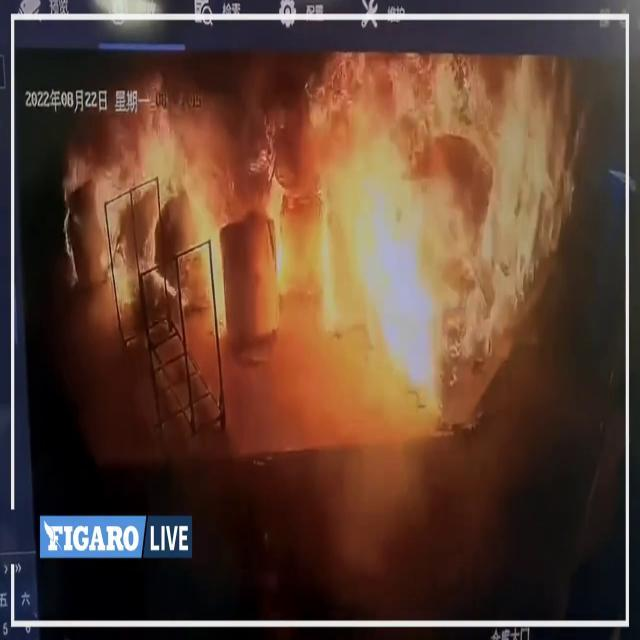Fire: (265, 55, 579, 414), (64, 83, 228, 344)
